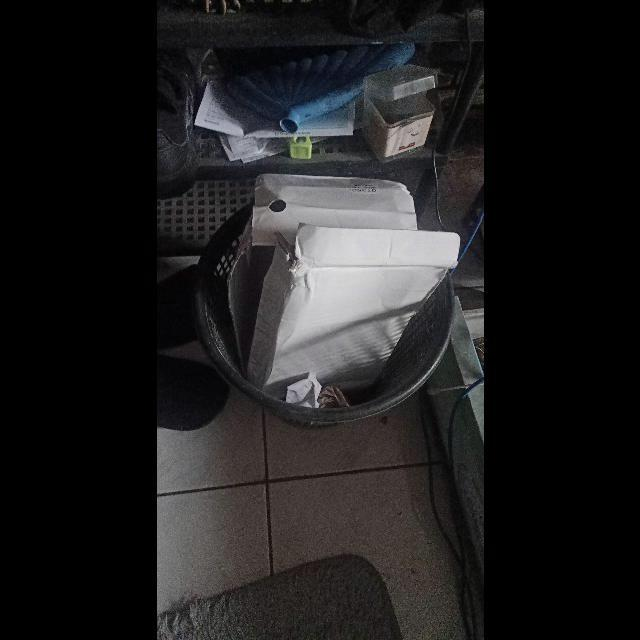cardboard: (227, 174, 417, 377), (246, 223, 460, 402)
paper: (285, 373, 321, 411), (316, 384, 348, 408)
